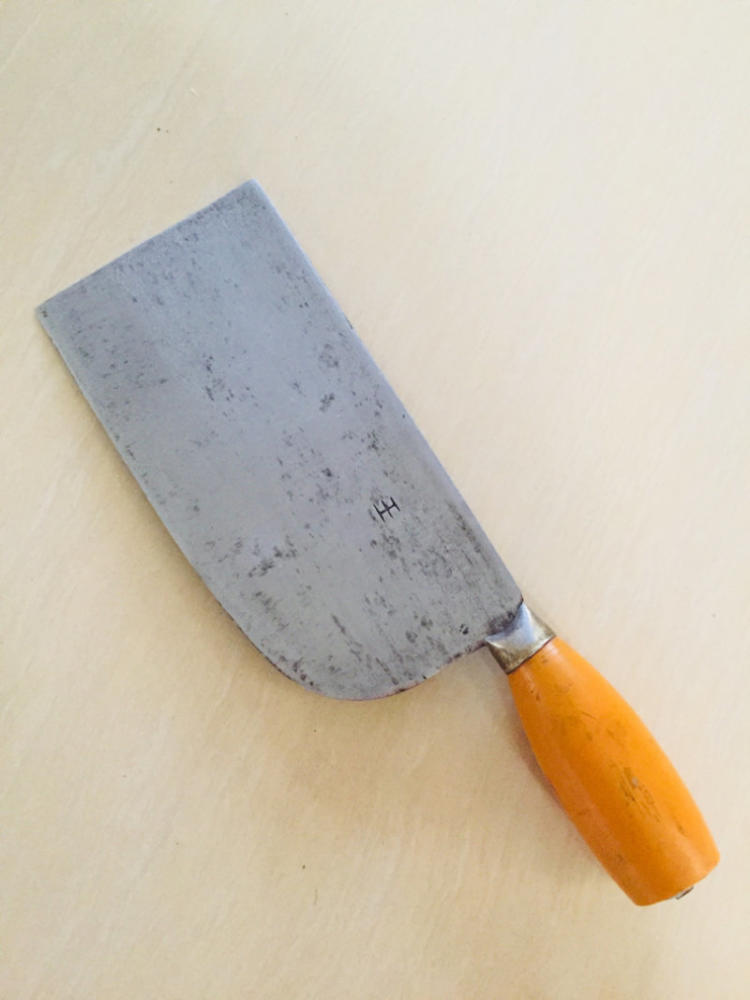knief: (24, 201, 742, 906)
